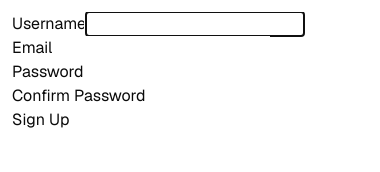
Test: SignUpForm Email Validation › shows error when invalid email format
Type "ValidUser1" into the field labelled "Username".
click(195, 24); type("ValidUser1")  # box [86, 12, 304, 36]
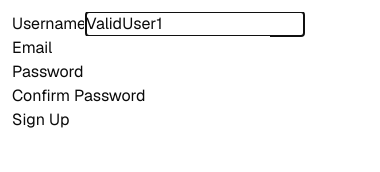
Type "invalid-email" into the field labelled "Email".
click(161, 48); type("invalid-email")  # box [52, 36, 270, 60]
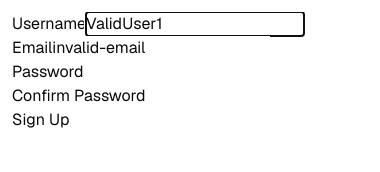
Type "ValidPass123!" into the password field labelled "Password".
click(192, 72); type("ValidPass123!")  # box [84, 60, 302, 84]
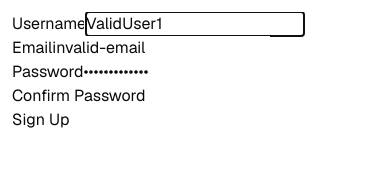
Type "ValidPass123!" into the password field labelled "Confirm Password".
click(254, 96); type("ValidPass123!")  # box [146, 84, 364, 108]
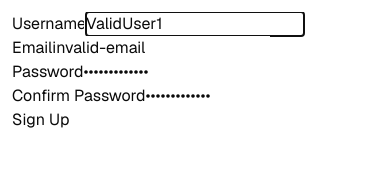
Click the button "Sign Up".
click(41, 120)  # box [12, 108, 70, 132]
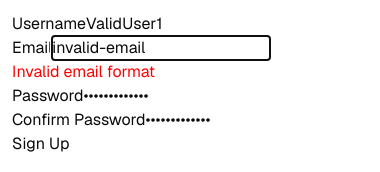
Expected: the text with test id "email-error" reads "Invalid email format", [12, 61, 155, 82]
